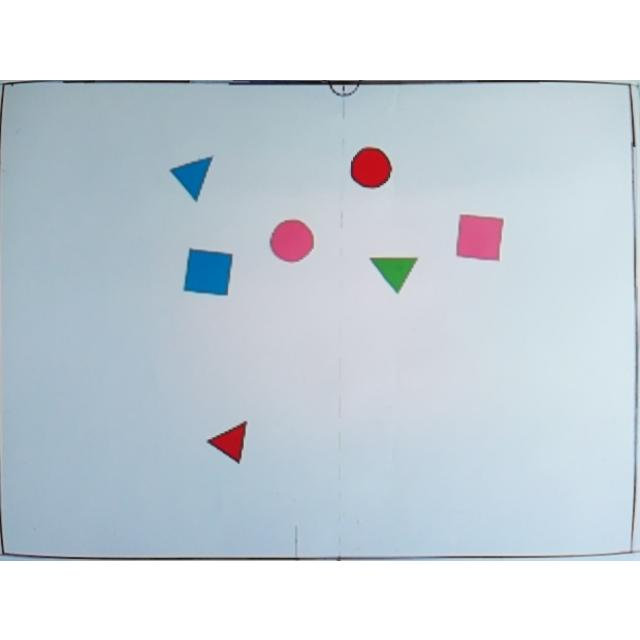blueSquare: (182, 247, 232, 296)
blueTriangle: (170, 154, 214, 202)
greenTriangle: (370, 254, 418, 292)
pinkCircle: (270, 218, 314, 262)
pinkSquare: (455, 212, 503, 260)
redCircle: (350, 146, 392, 188)
redTriangle: (207, 419, 251, 463)
